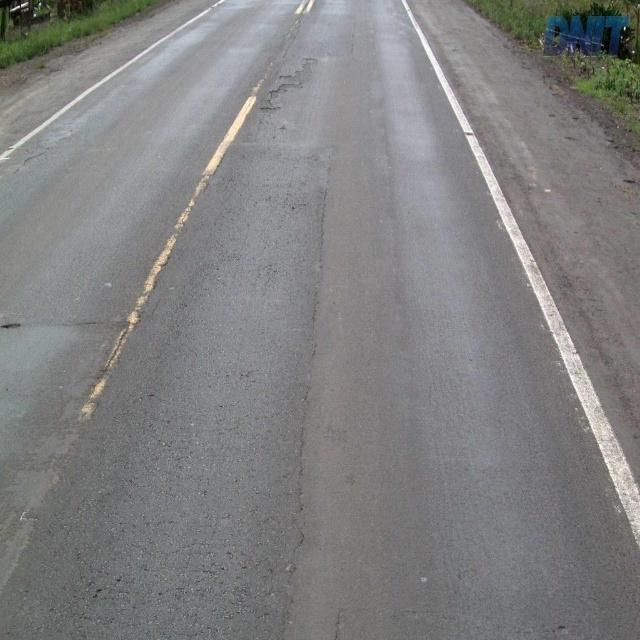pothole: (254, 50, 318, 123)
